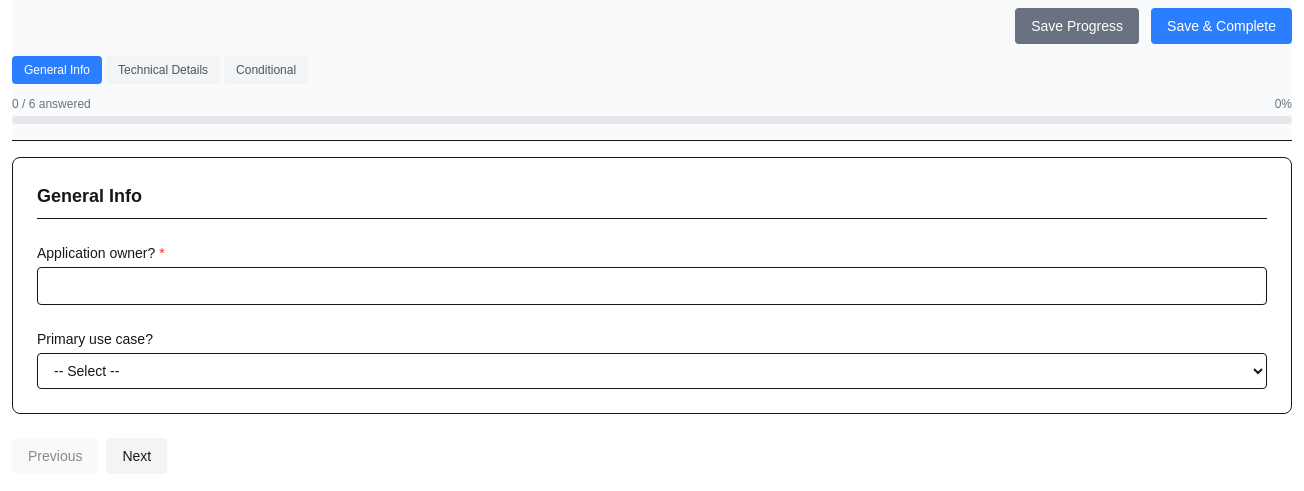
Scenario: AppQuestionsForm › shows error on save failure
This screenshot has width=1304, height=491.
Click the button "Save Progress".
click(1077, 26)  # box [1015,8,1139,44]
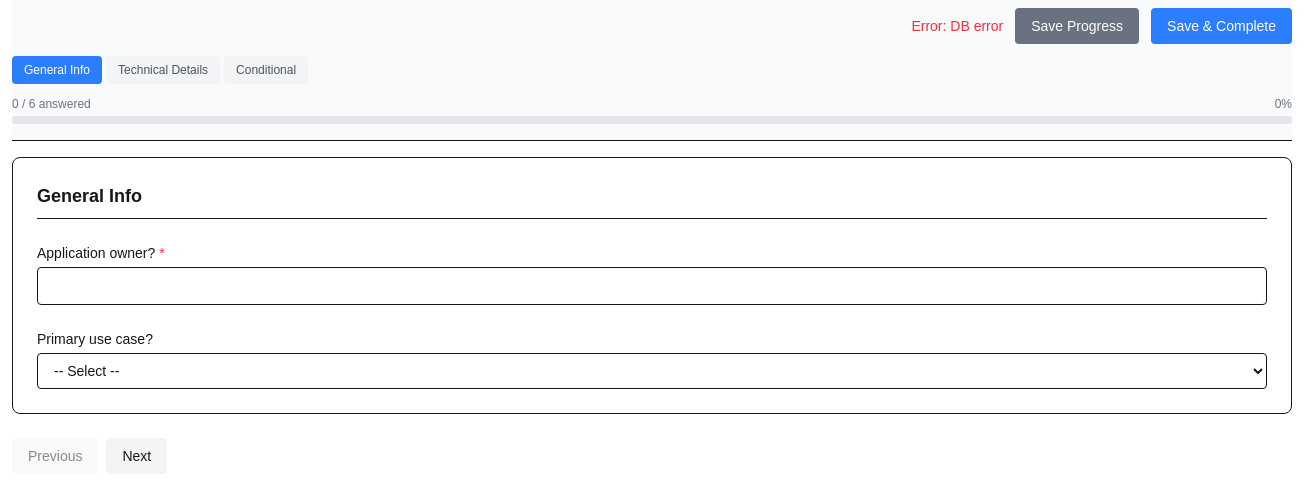
Expected: the text "Error: DB error" is shown, [911,16,1003,36]
